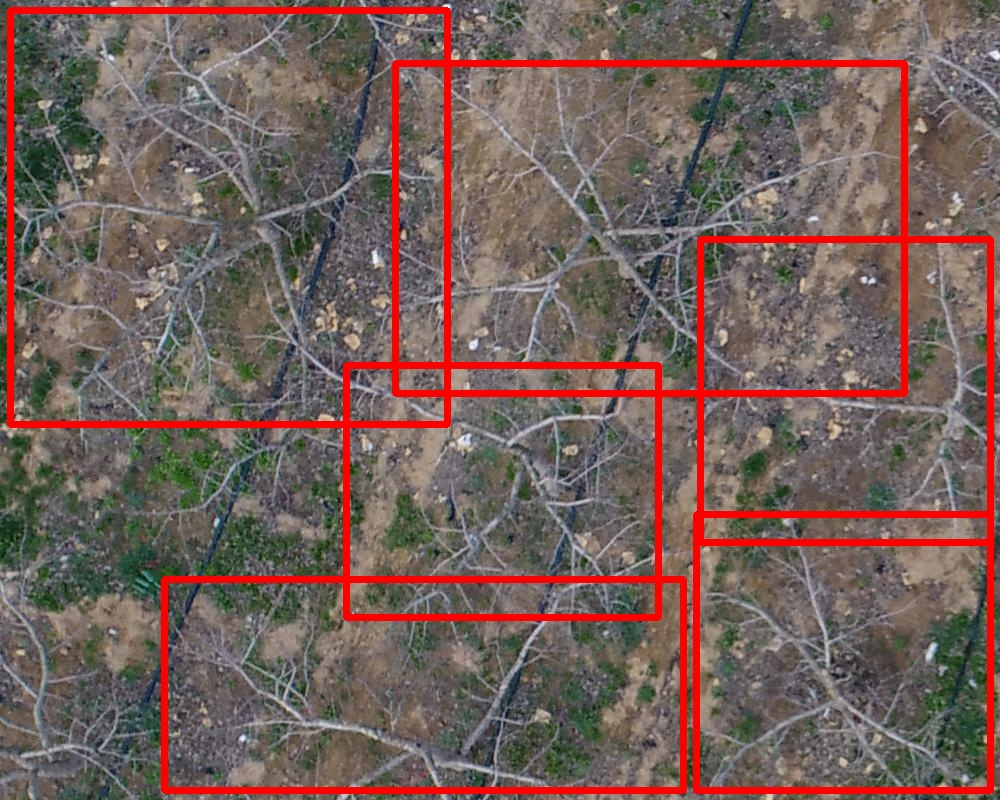apple: (10, 10, 447, 424), (395, 63, 904, 393), (164, 579, 683, 790), (700, 239, 990, 542), (696, 514, 990, 790), (346, 365, 658, 617)
